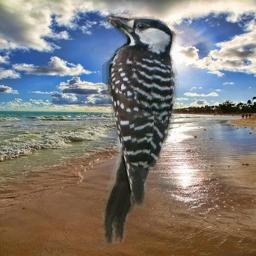Woodpecker: (99, 10, 181, 244)
